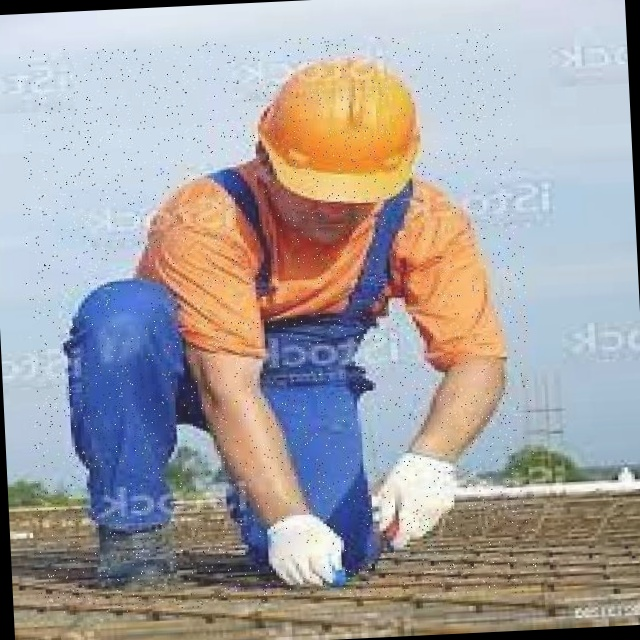boots: (472, 493, 567, 594)
gloves: (190, 459, 280, 550), (308, 508, 384, 600)
